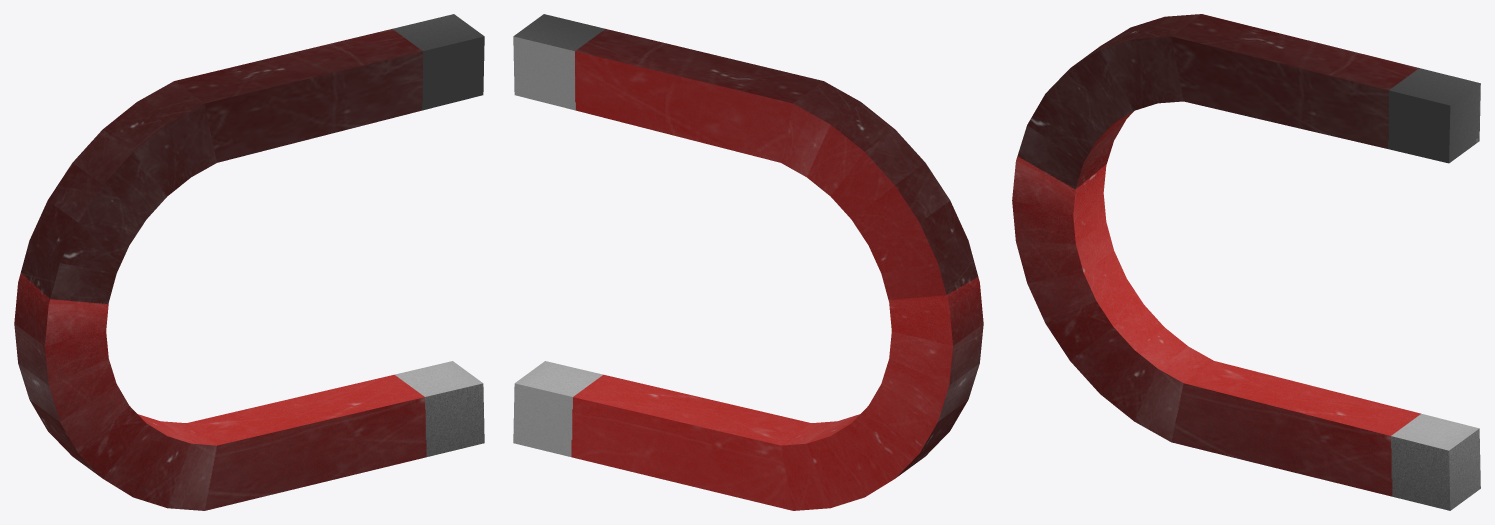
The model's file is scene_baked.glb.
The picture shows the model from 3 angles, left to right: view 1: azimuth 30°, elevation 25°; view 2: azimuth 150°, elevation 25°; view 3: azimuth 330°, elevation 25°; orthographic projection.
Parts seen in each view (by area): view 1: Scene_Baked; view 2: Scene_Baked; view 3: Scene_Baked.
Boxes of the visible parts, x1,y1,x2,y2 form: Scene_Baked: (14,14,484,510); Scene_Baked: (513,14,983,510); Scene_Baked: (1012,14,1480,510).
Size of the model in its own units: 3.66 by 3.24 by 0.441.
Materials: 1 (1 with a texture image).
